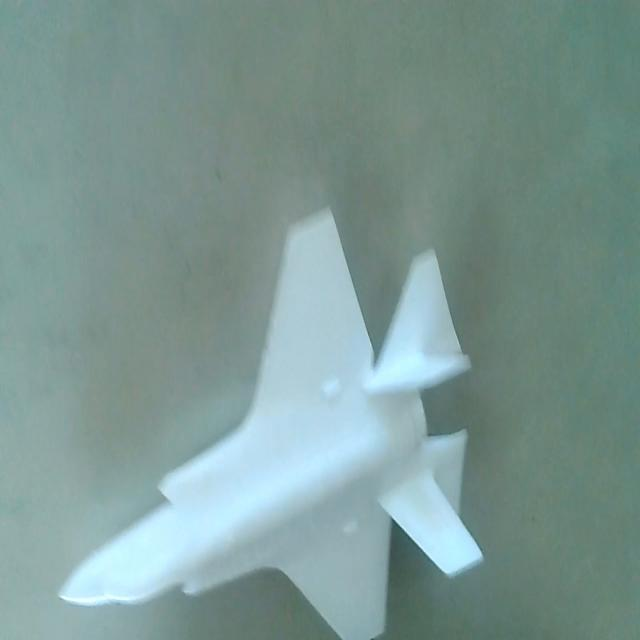Jet: (53, 202, 489, 640)
